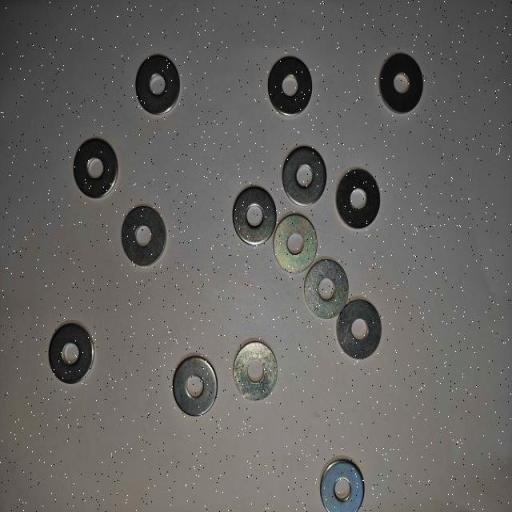washer: (378, 52, 425, 115), (134, 54, 181, 116), (335, 168, 381, 230), (303, 258, 349, 320), (336, 298, 382, 360), (48, 322, 94, 384), (172, 355, 218, 417), (272, 213, 318, 274), (73, 138, 118, 200), (122, 204, 167, 266), (233, 340, 278, 401), (268, 54, 312, 116), (232, 186, 278, 245), (282, 146, 326, 206), (319, 458, 365, 512)
